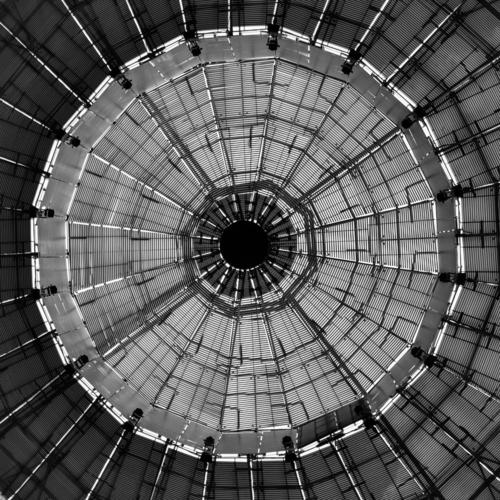buildings: (27, 20, 475, 467), (97, 187, 397, 452)
